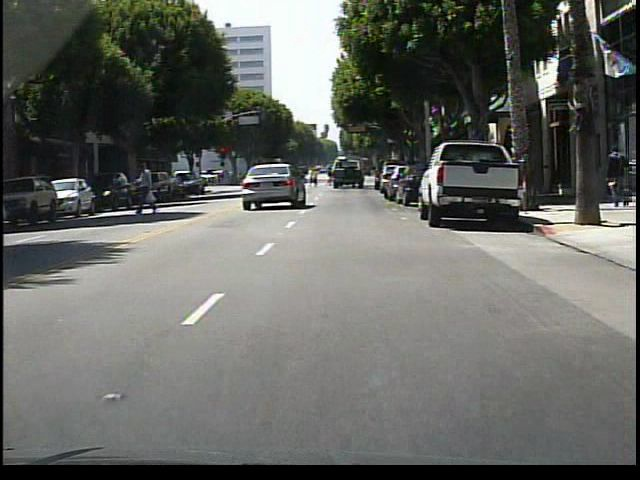person: (602, 146, 629, 207), (138, 157, 159, 214), (310, 165, 321, 188)
